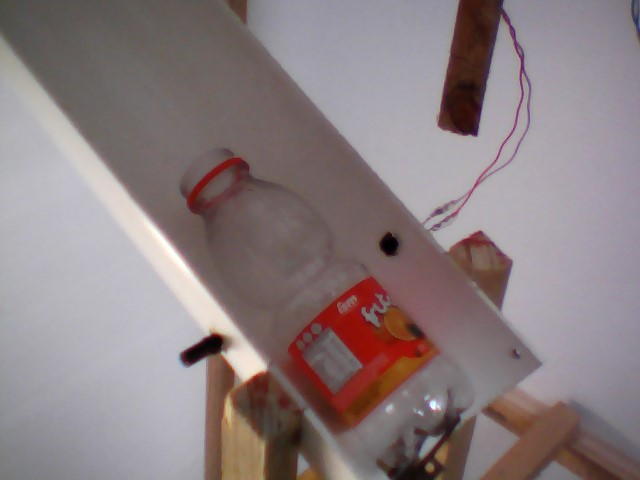plastico: (168, 145, 479, 480)
